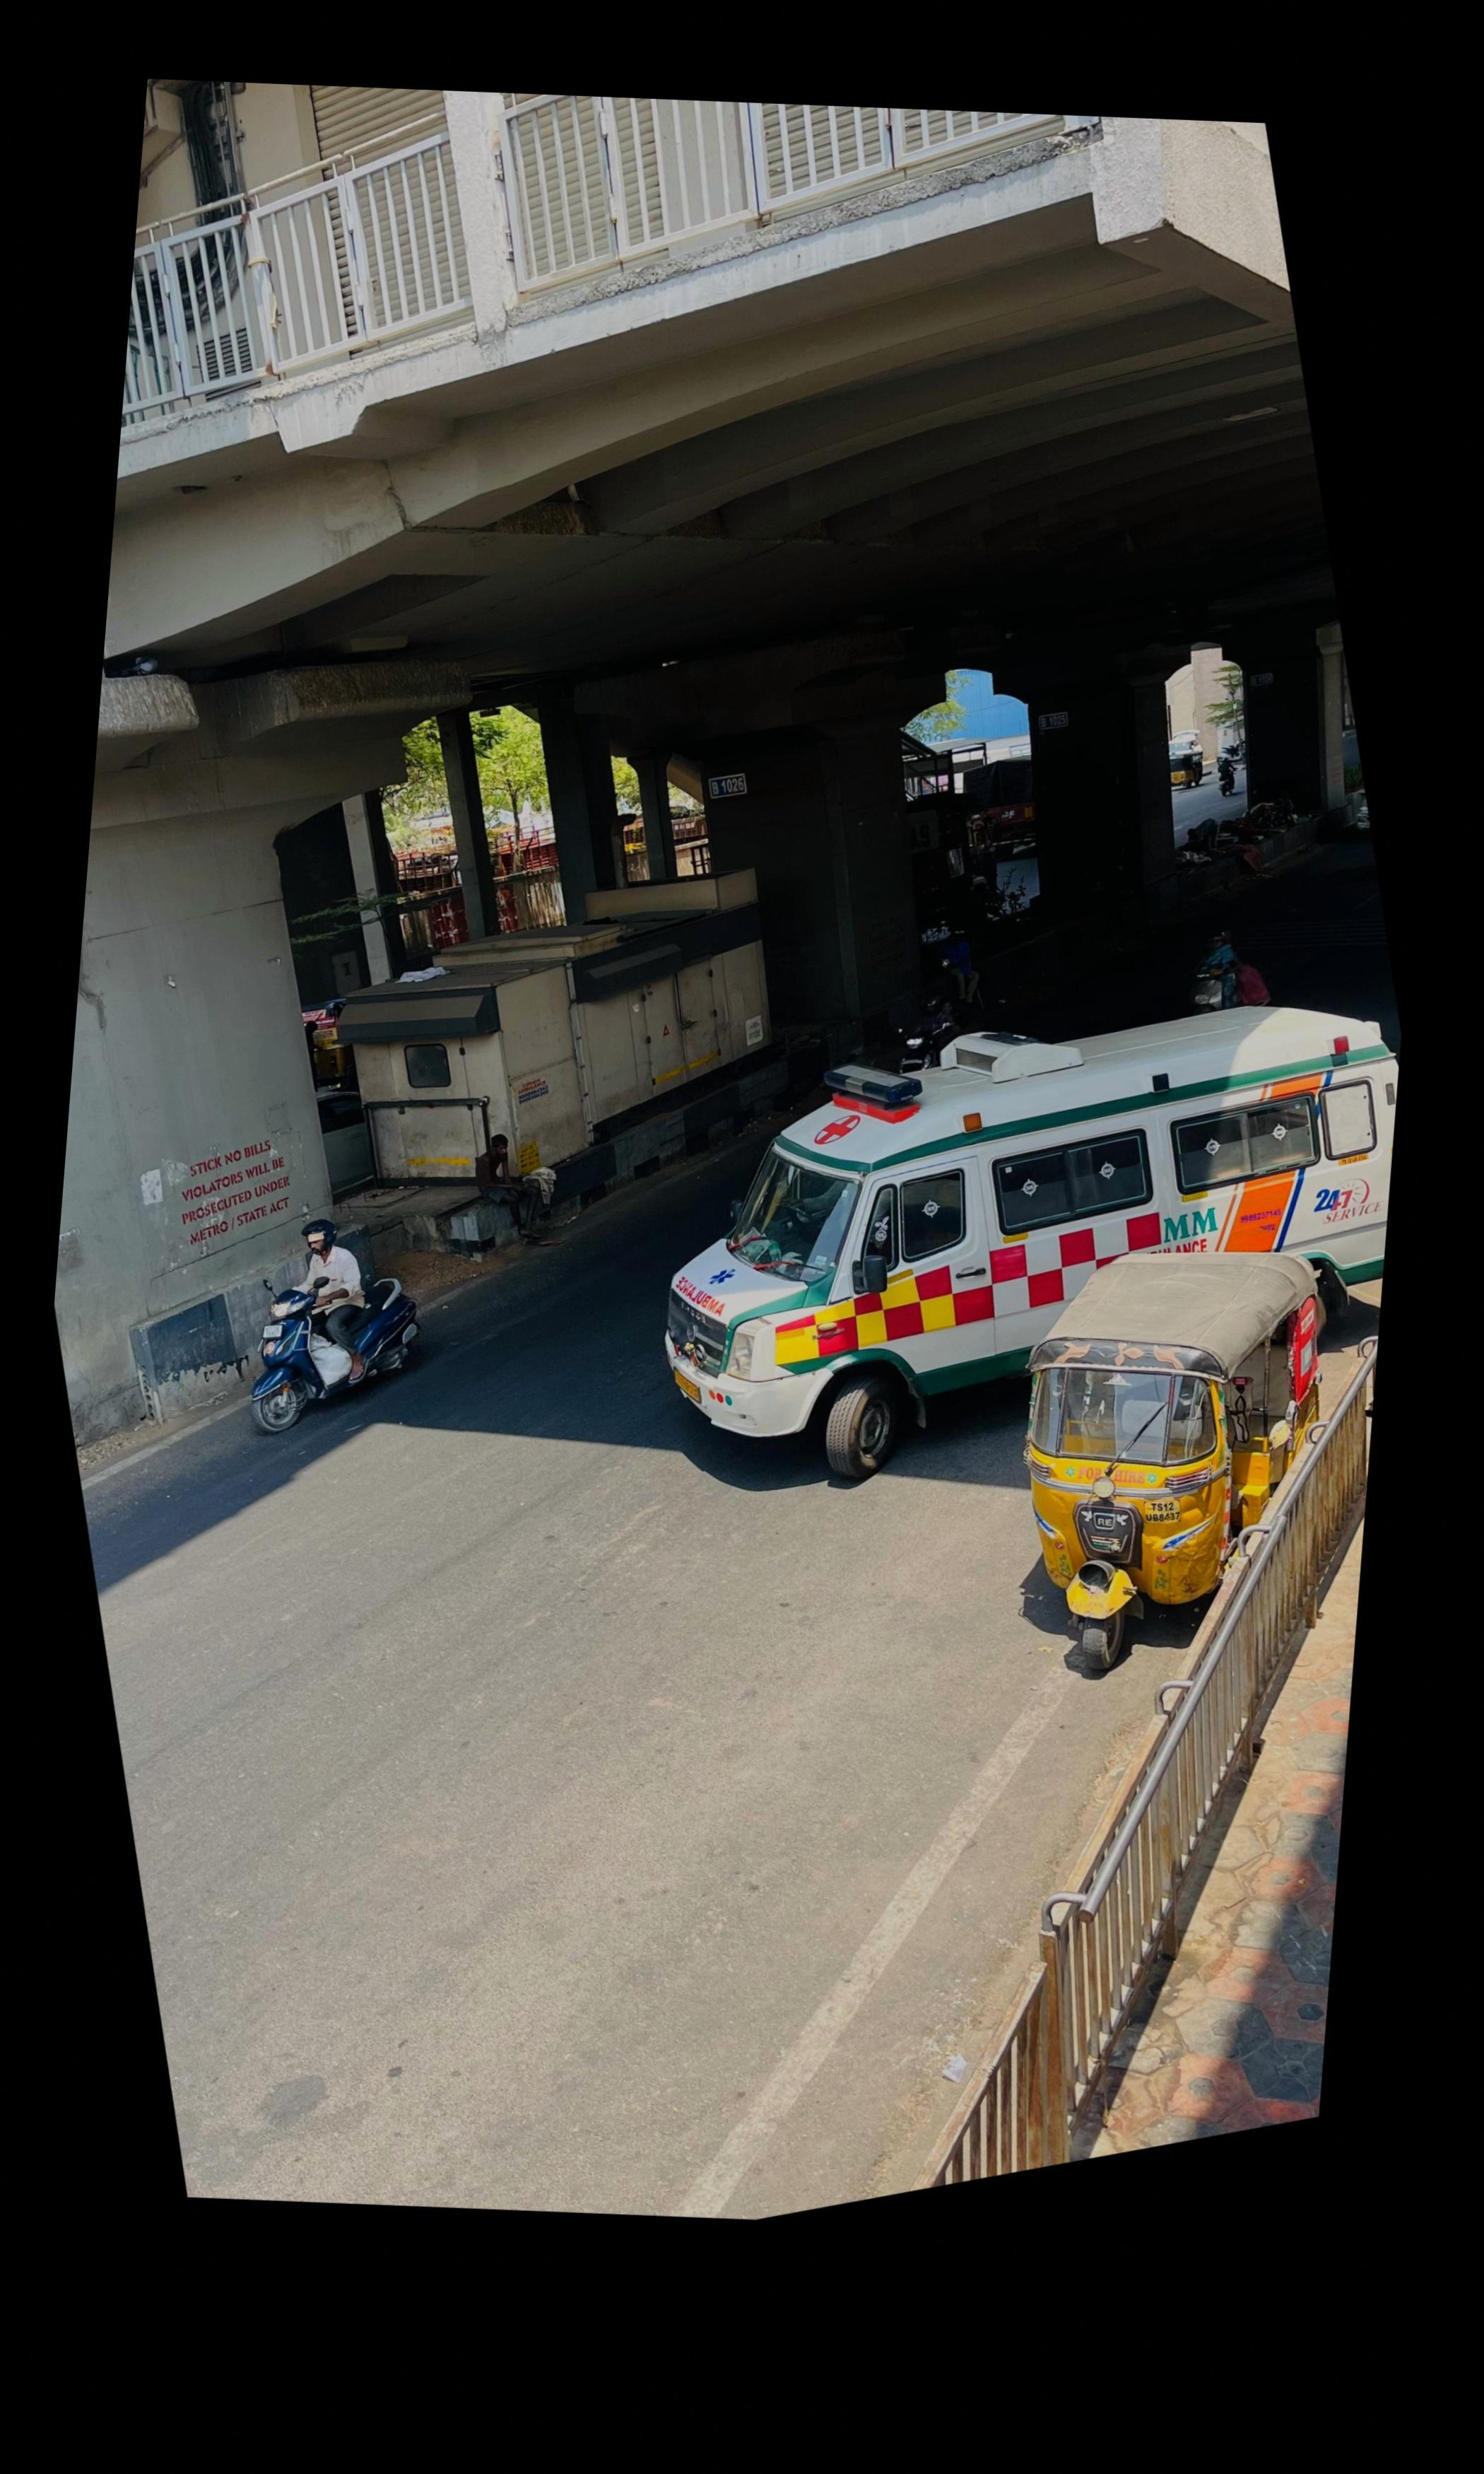ambulance: (664, 1011, 1396, 1488)
